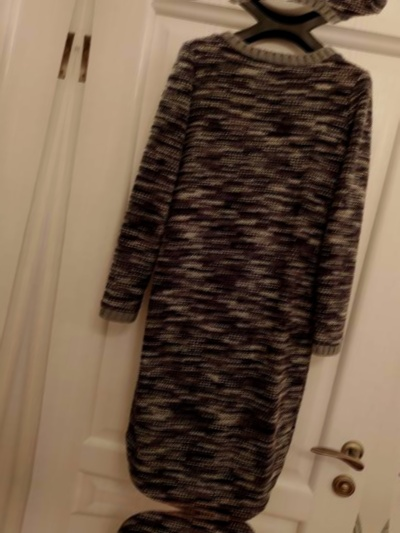Dress: (45, 6, 400, 529), (0, 0, 43, 462), (0, 495, 336, 533), (130, 0, 400, 44)
